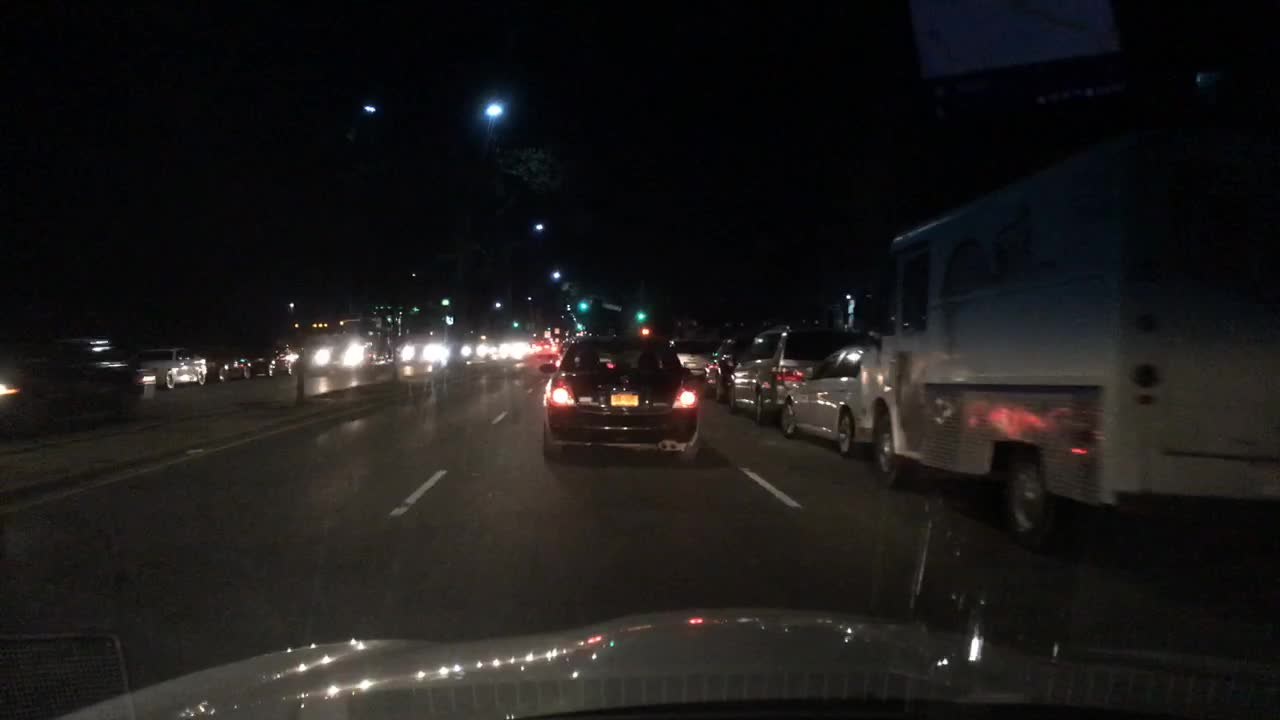bus: (861, 159, 1278, 551), (306, 311, 394, 371)
car: (537, 333, 701, 466), (726, 322, 861, 425), (0, 334, 144, 430), (778, 343, 860, 457), (136, 345, 206, 390), (699, 335, 744, 401), (667, 337, 719, 379), (249, 342, 300, 377), (204, 351, 249, 381), (398, 335, 449, 360), (459, 337, 498, 357), (500, 342, 531, 357), (531, 342, 548, 350)
traffic light: (578, 297, 587, 310), (636, 308, 643, 321), (513, 319, 517, 328)
traffic sign: (444, 316, 454, 326), (543, 328, 551, 337), (553, 326, 559, 335)
